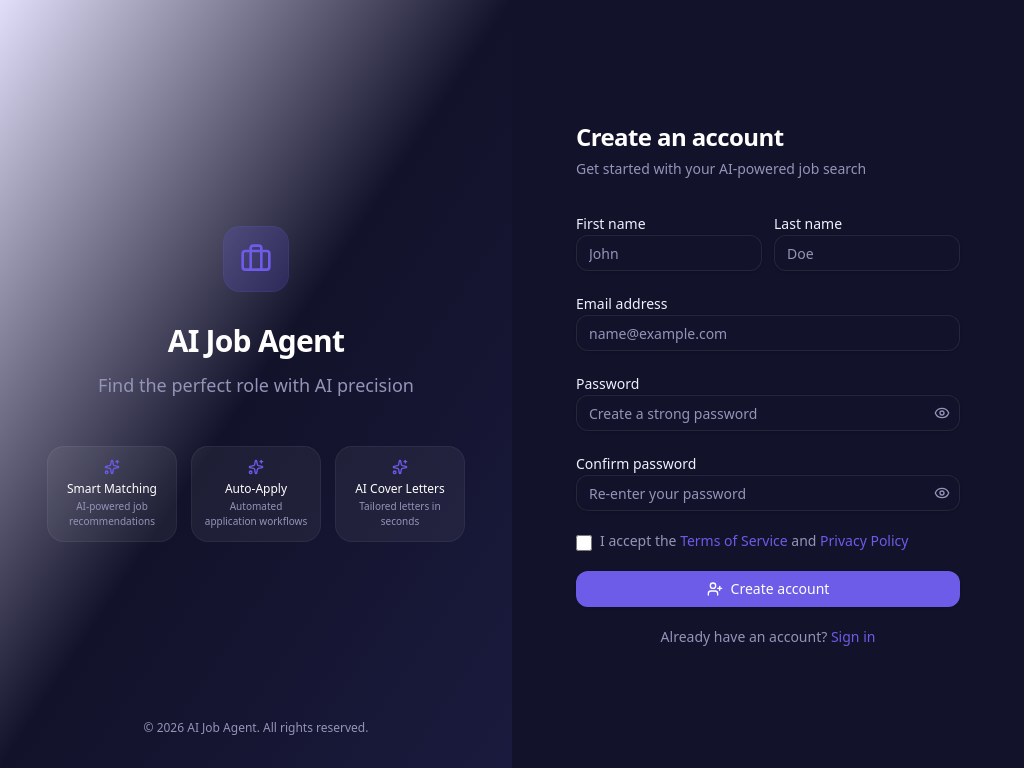
Test case: RegisterPage › shows validation errors for empty fields
This screenshot has width=1024, height=768.
Click the button "Create account" at (768, 589), box [576, 571, 960, 607]
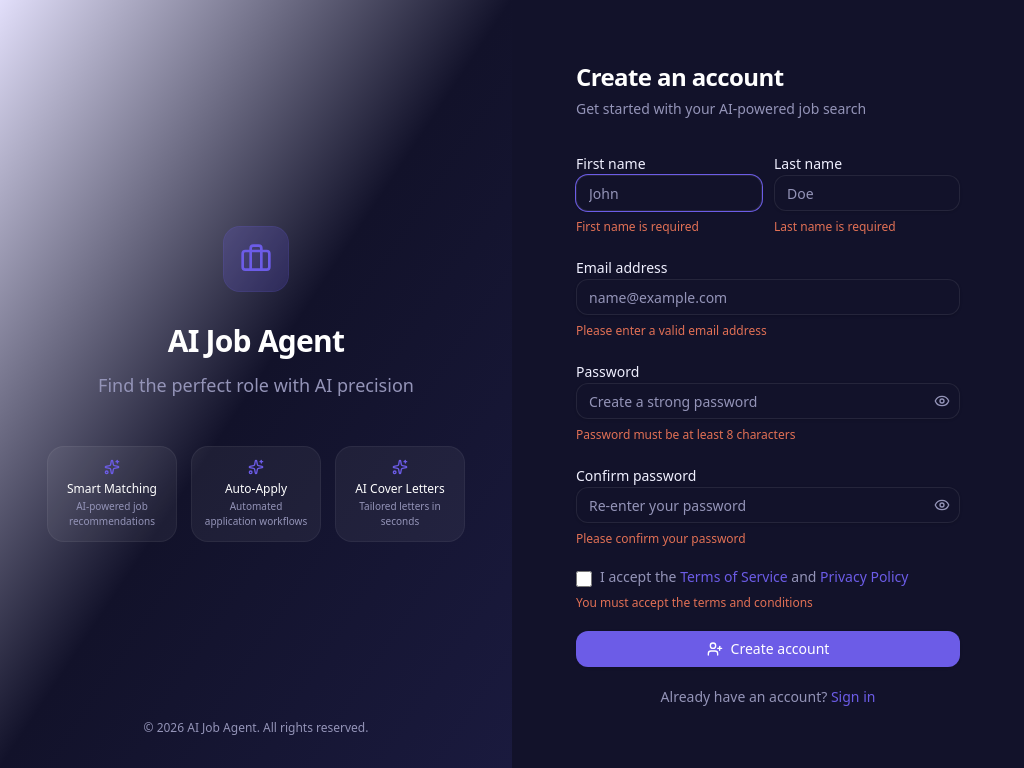
Expected: the text "First name is required" is shown, [576, 218, 699, 235]
Expected: the text "Last name is required" is shown, [774, 218, 896, 235]
Expected: the text "Please enter a valid email address" is shown, [576, 322, 767, 339]
